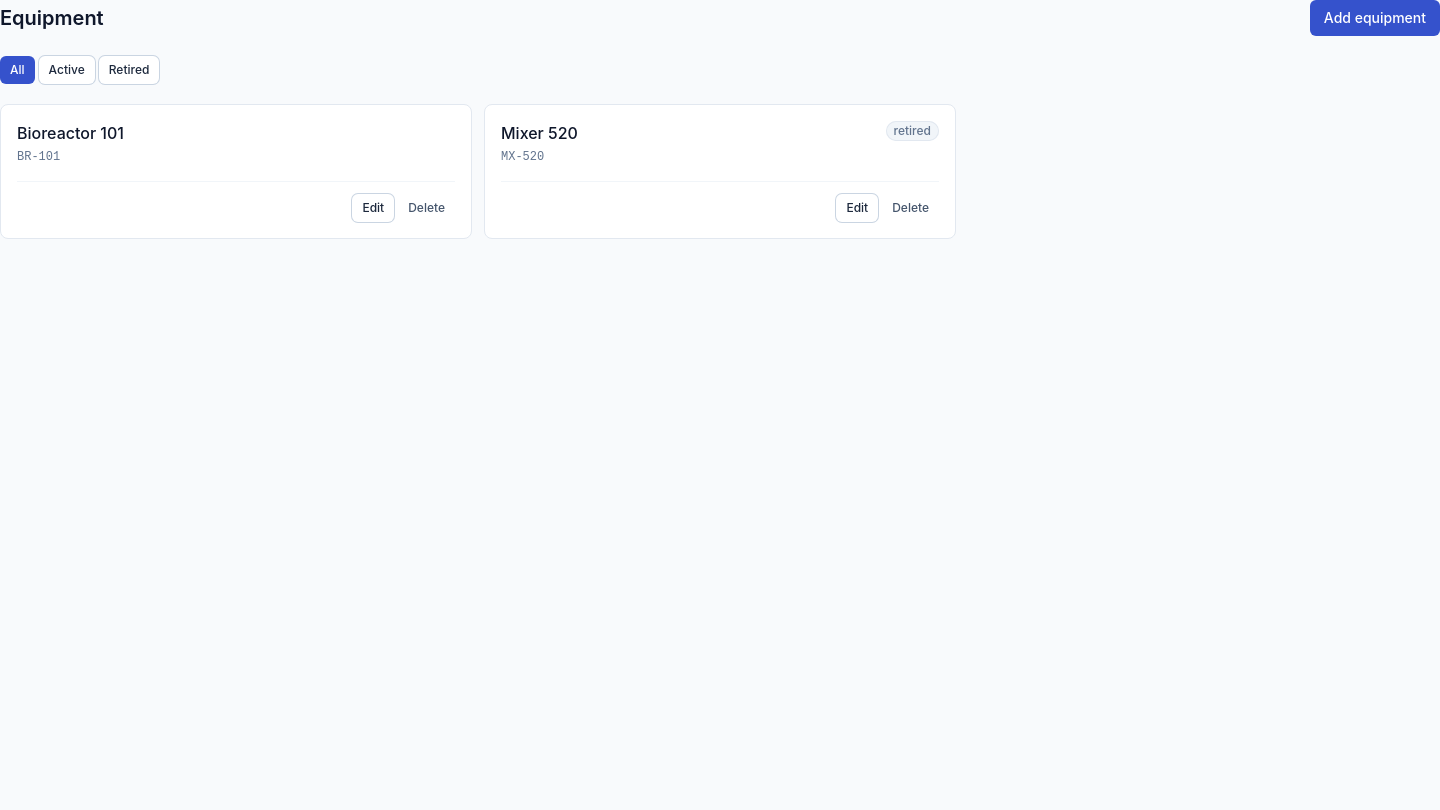
Test: EquipmentListPage › deletes unused equipment and closes the dialog
The image size is (1440, 810).
Check: the link "Bioreactor 101" is shown, box [17, 121, 124, 145]
Click the 1st button "Delete": [427, 208] box [398, 194, 455, 222]
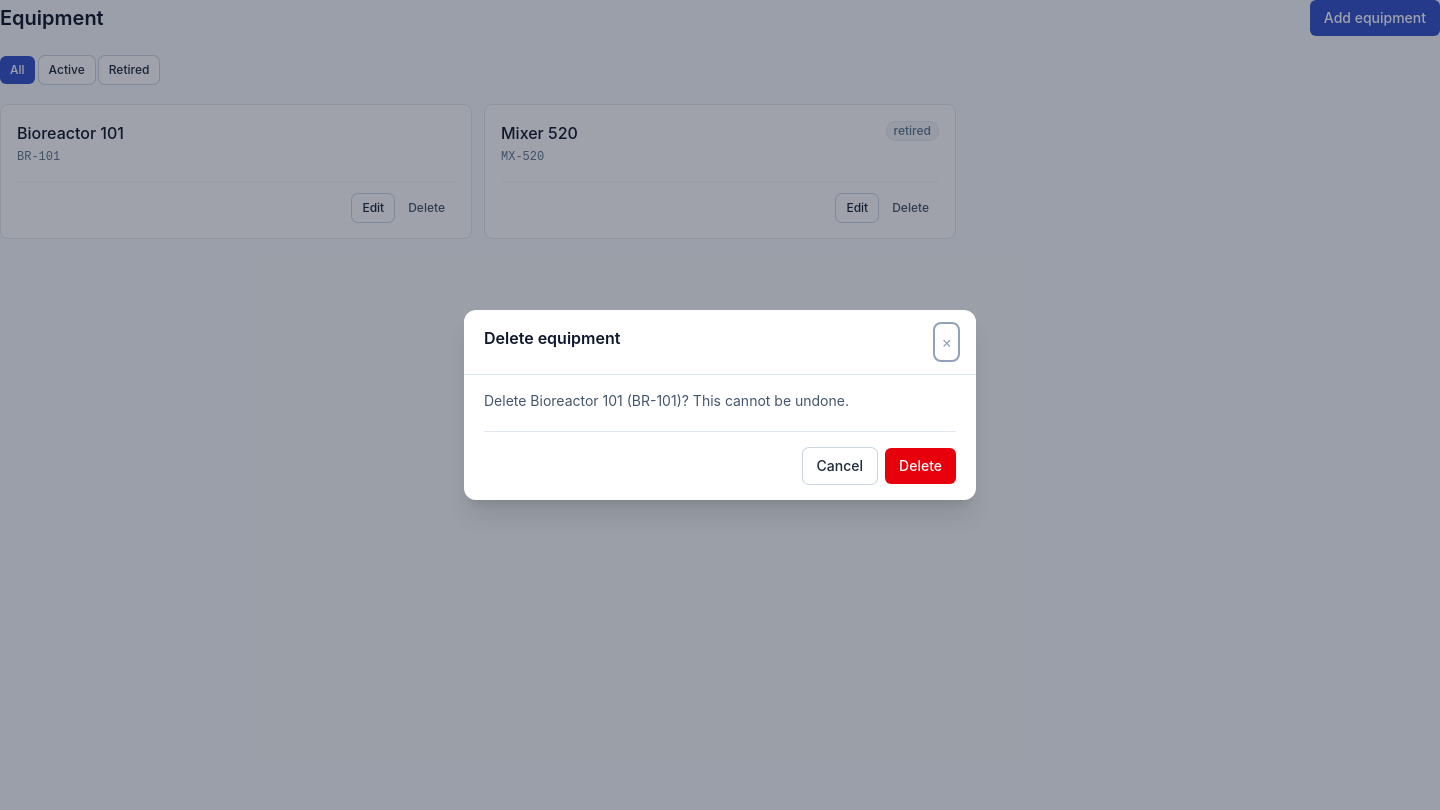
Click the button "Delete": [921, 466] box [885, 448, 956, 484]
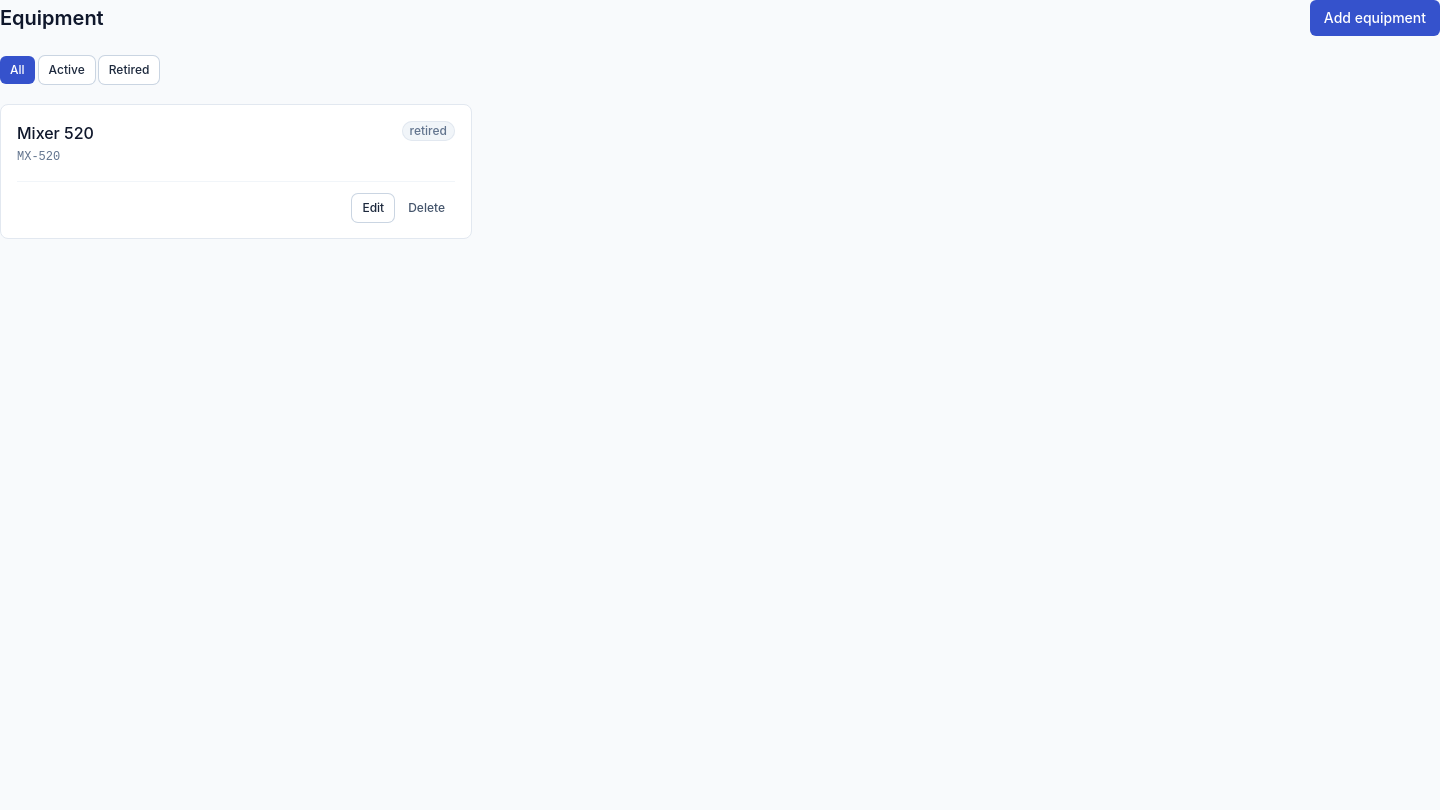
Check: the link "Bioreactor 101" is gone
Check: the dialog is gone
